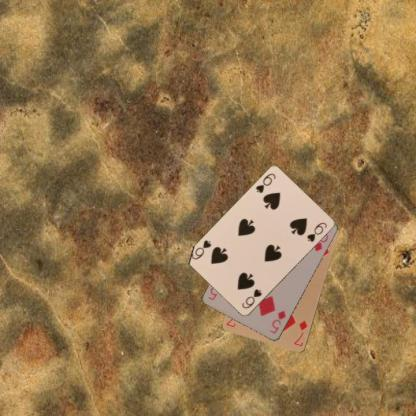5d: (267, 308, 287, 335)
6s: (253, 171, 277, 195), (239, 287, 263, 310)
7d: (291, 318, 309, 348)
